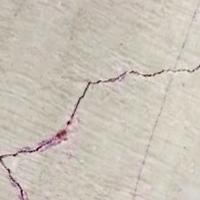crack: (0, 63, 199, 199)
